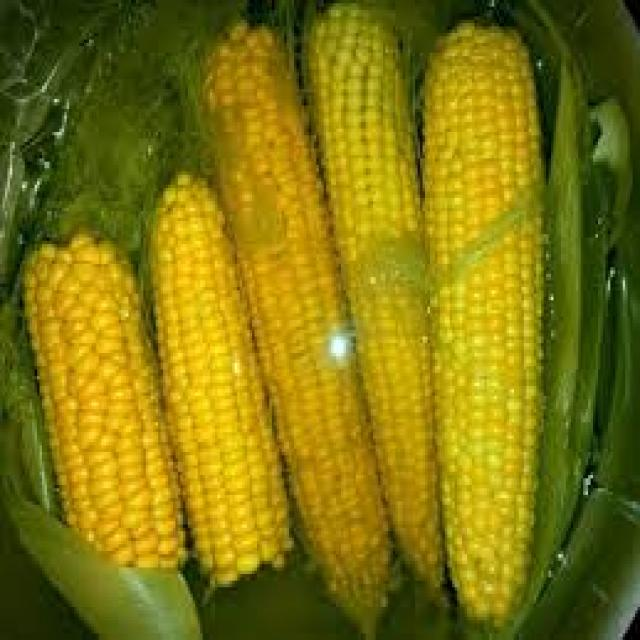corn: (176, 6, 391, 624), (406, 7, 566, 621), (306, 7, 451, 621), (123, 158, 300, 611), (24, 220, 176, 610)
